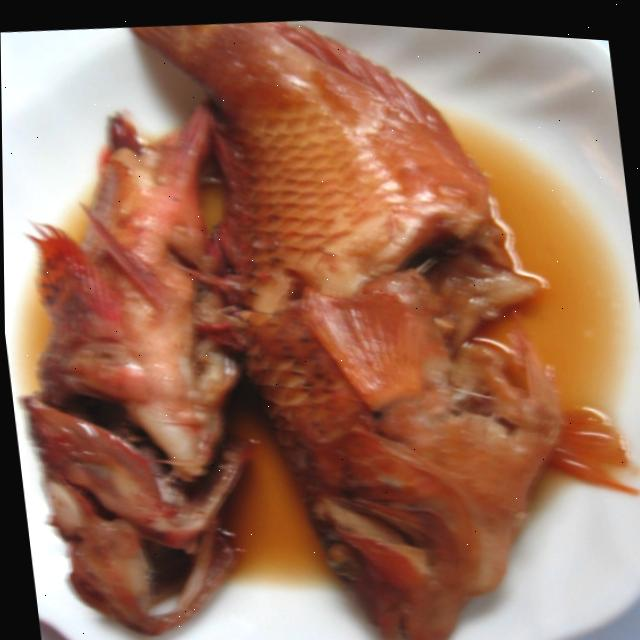熟制海鲜: (35, 176, 640, 640)
